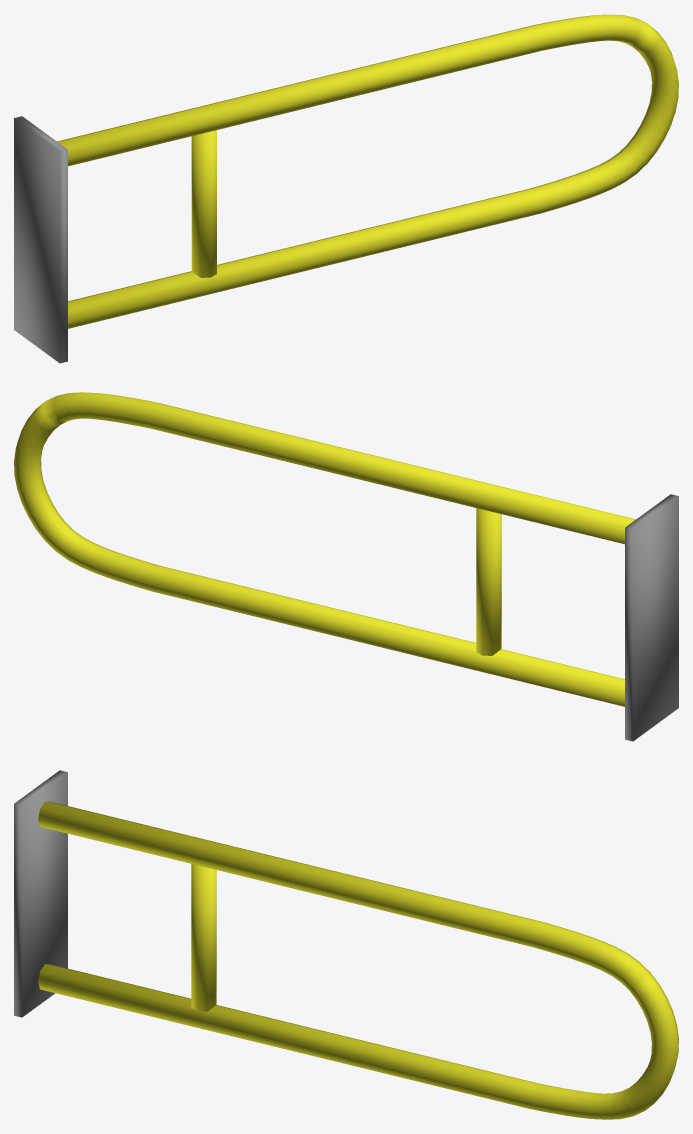
The model's file is Grab-Handle.fbx.
3 views of the same model, one above another, from view 1: azimuth 30°, elevation 25°; view 2: azimuth 150°, elevation 25°; view 3: azimuth 330°, elevation 25° (orthographic).
Parts seen in each view (by area): view 1: Grab-Handle; view 2: Grab-Handle; view 3: Grab-Handle.
Part boxes in pixels (x1,y1,x2,y2): Grab-Handle: [14, 14, 678, 363]; Grab-Handle: [14, 392, 678, 741]; Grab-Handle: [14, 770, 678, 1119].
Size of the model in its own units: 84.36 by 26.65 by 10.47.
